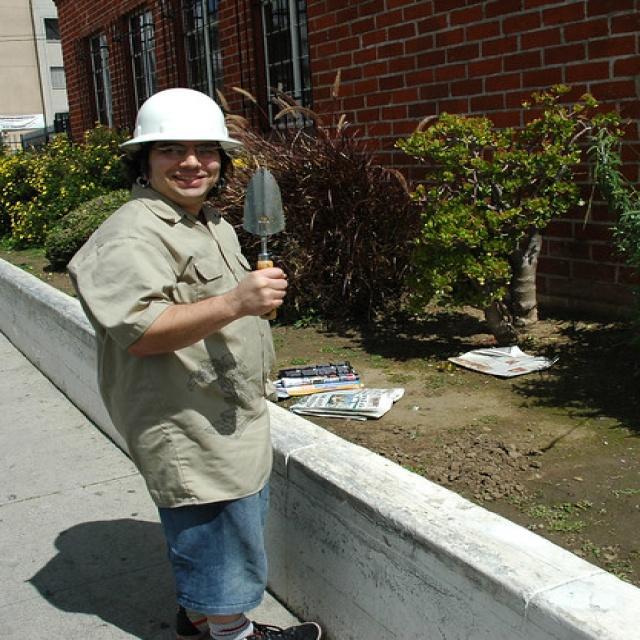helmet: (119, 112, 248, 196)
